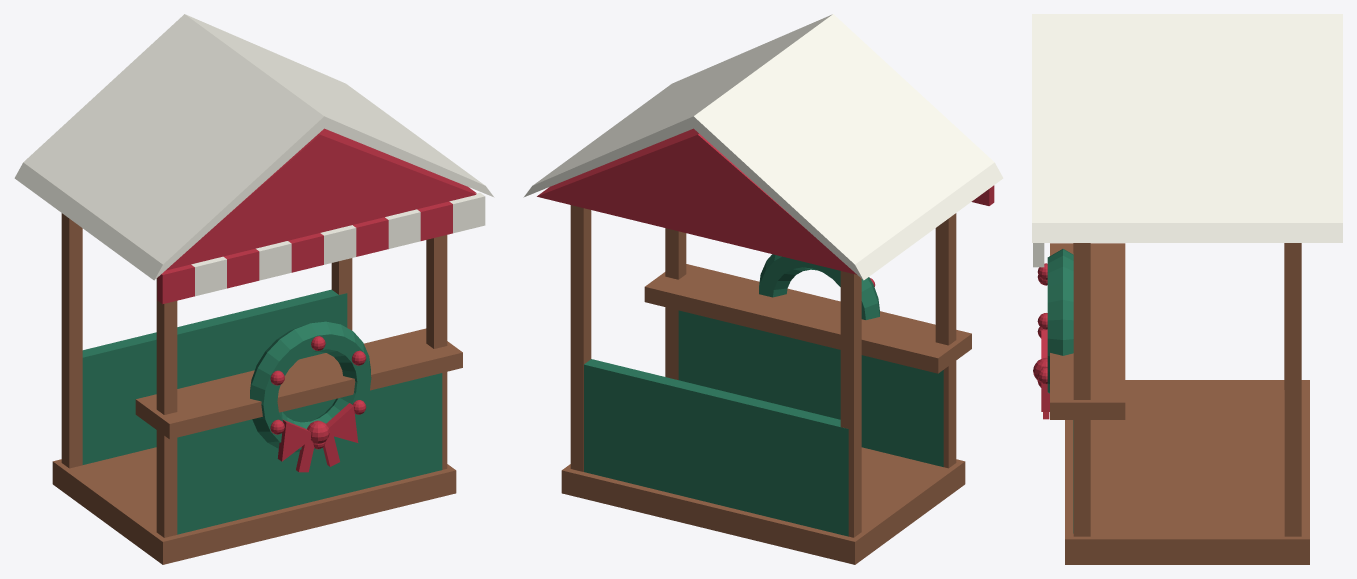
Rendered from christmas-village-christmas-market-stall-4fcc8838.glb.
3 views of the same model, side by side, from view 1: azimuth 30°, elevation 25°; view 2: azimuth 150°, elevation 25°; view 3: azimuth 270°, elevation 25° (orthographic). The views are drawn at different scales.
Visible parts, largest first — view 1: christmas-market-stall; view 2: christmas-market-stall; view 3: christmas-market-stall.
Part boxes in pixels (bbox=[...]): christmas-market-stall: bbox=[14, 14, 494, 564]; christmas-market-stall: bbox=[523, 14, 1003, 564]; christmas-market-stall: bbox=[1032, 14, 1342, 564].
Size of the model in its own units: 2.32 by 2.76 by 1.65.
